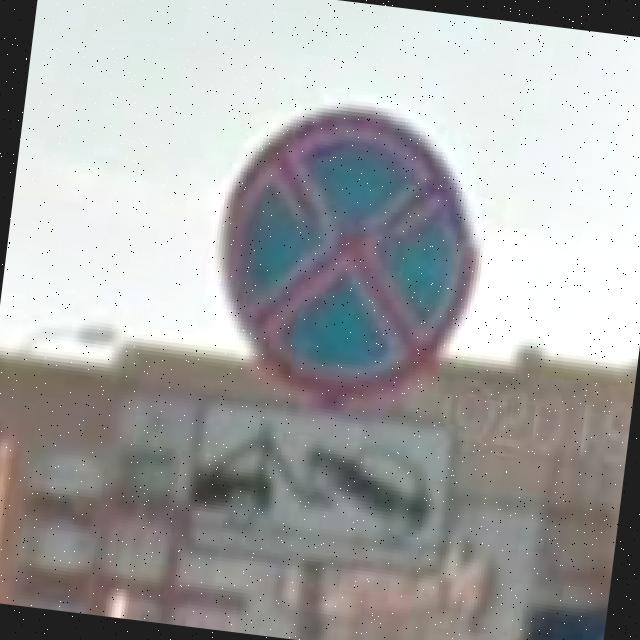Zakaz zatrzymywania sie: (198, 90, 496, 411)
